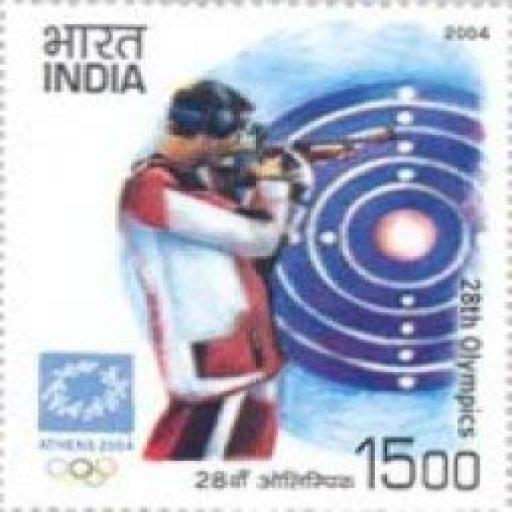shooting: (86, 49, 369, 512)
